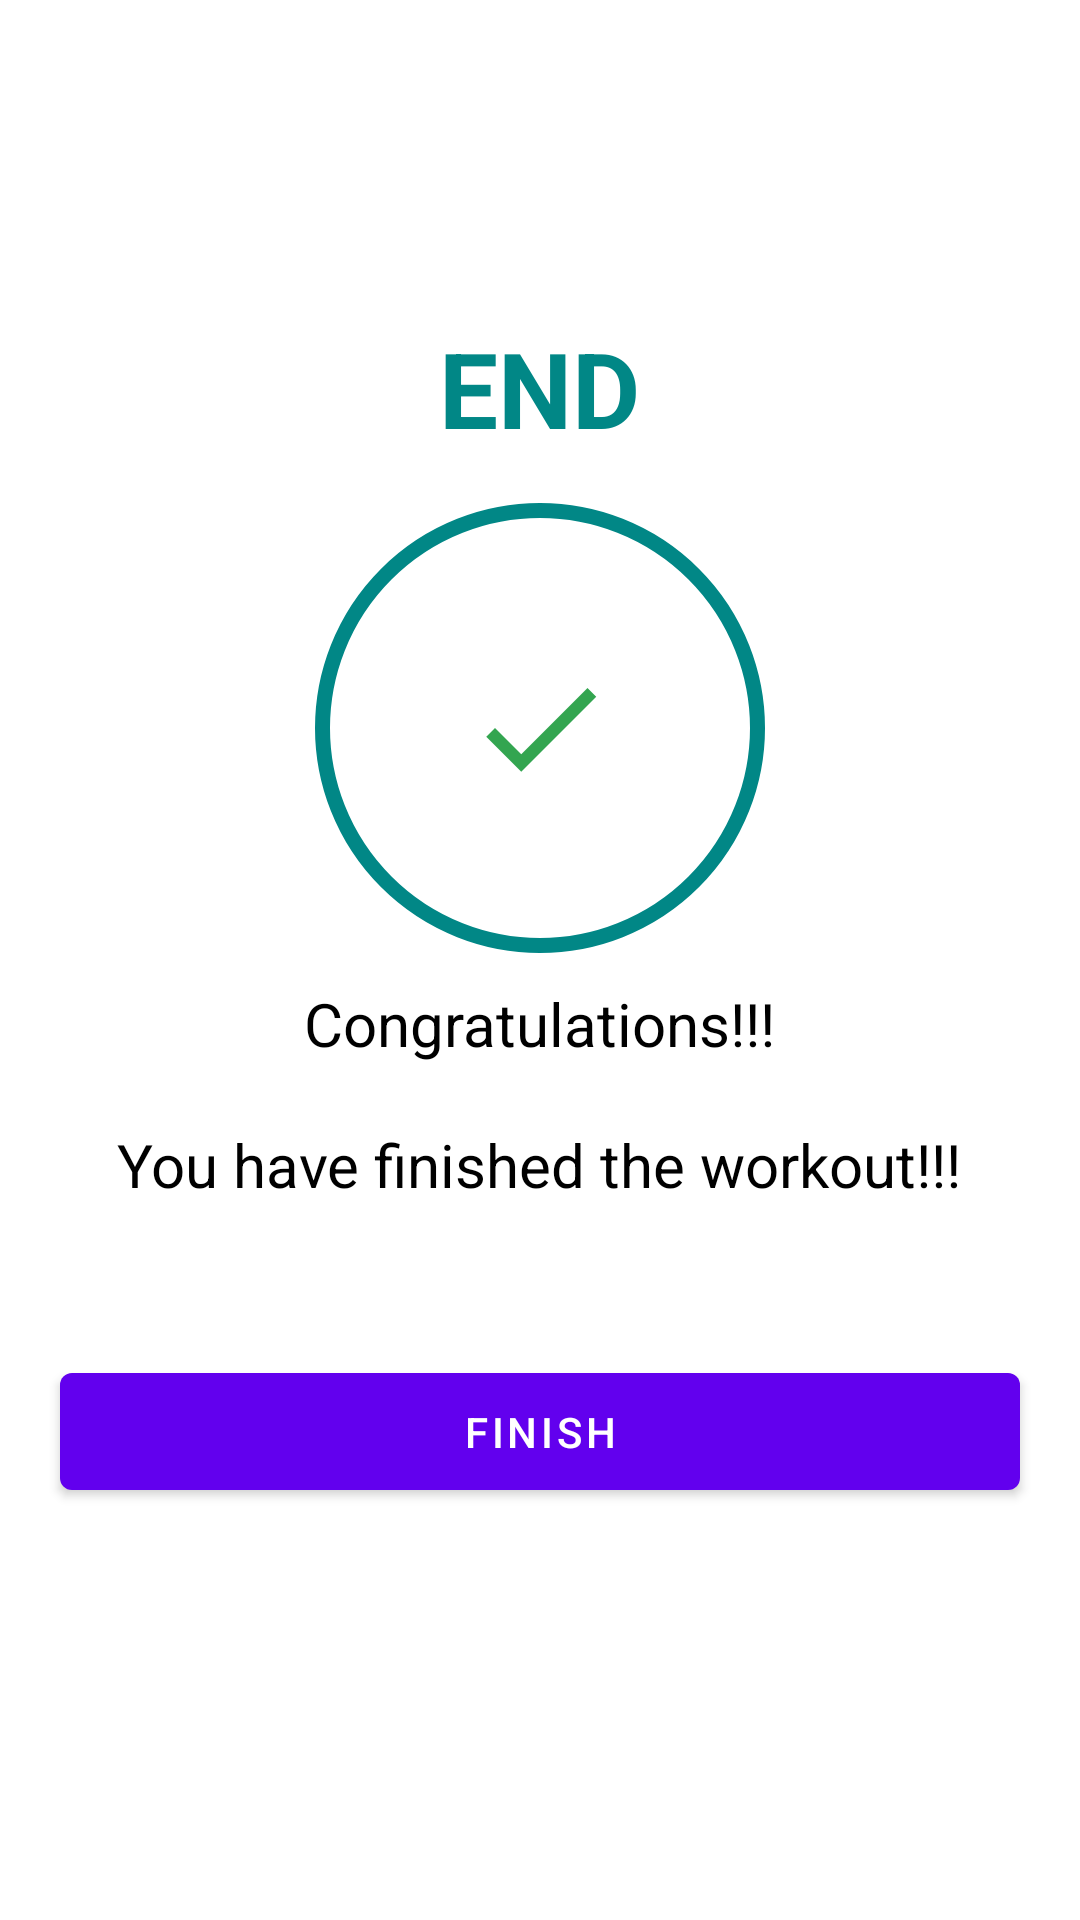

Named icons in this screenshot (1080*1920) and their centers, (x=x, y=y):
done: (x=541, y=730)
